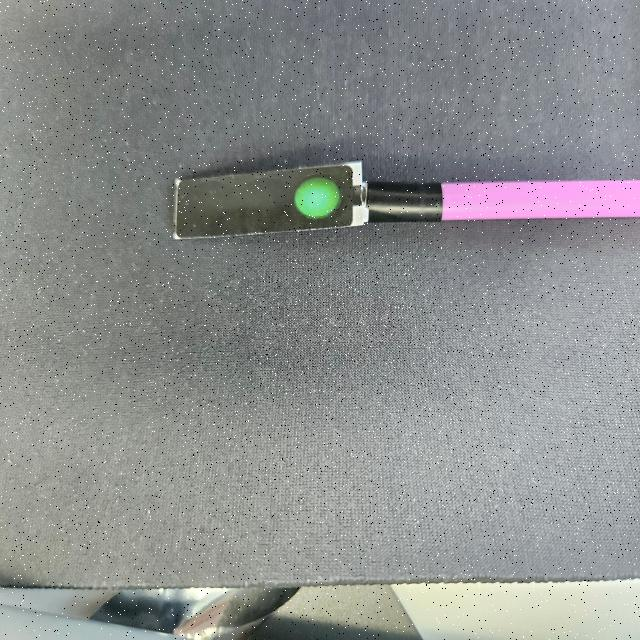traffic light: (172, 163, 367, 240)
